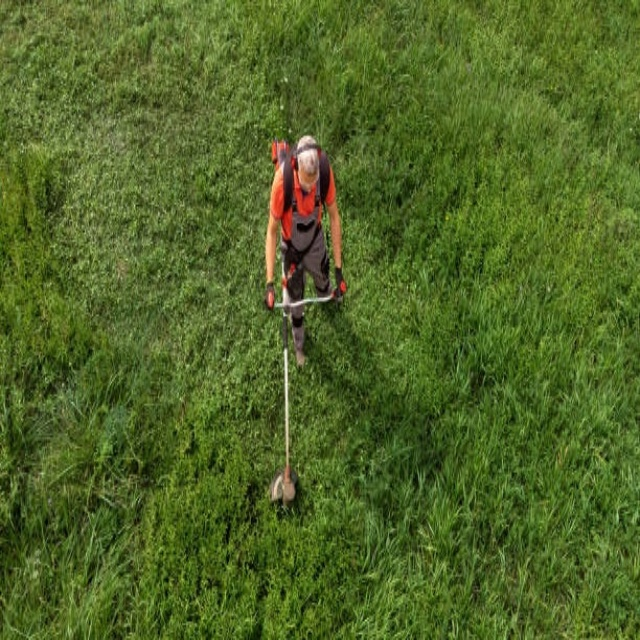Guantes: (262, 273, 278, 314), (333, 259, 347, 301)
